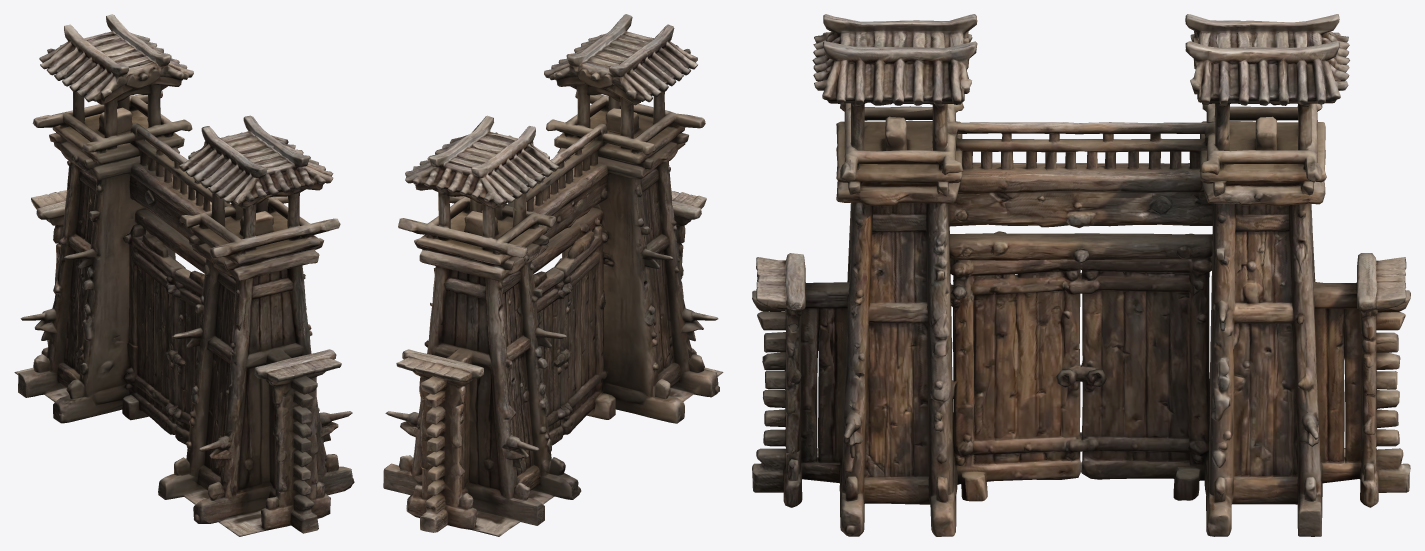
Rendered from gatehouse-high.glb.
3 views of the same model, side by side, from view 1: azimuth 30°, elevation 25°; view 2: azimuth 150°, elevation 25°; view 3: azimuth 270°, elevation 25° (orthographic). The views are drawn at different scales.
Size of the model in its own units: 0.3643 by 0.7715 by 0.9996.
1 material, 1 textured.
